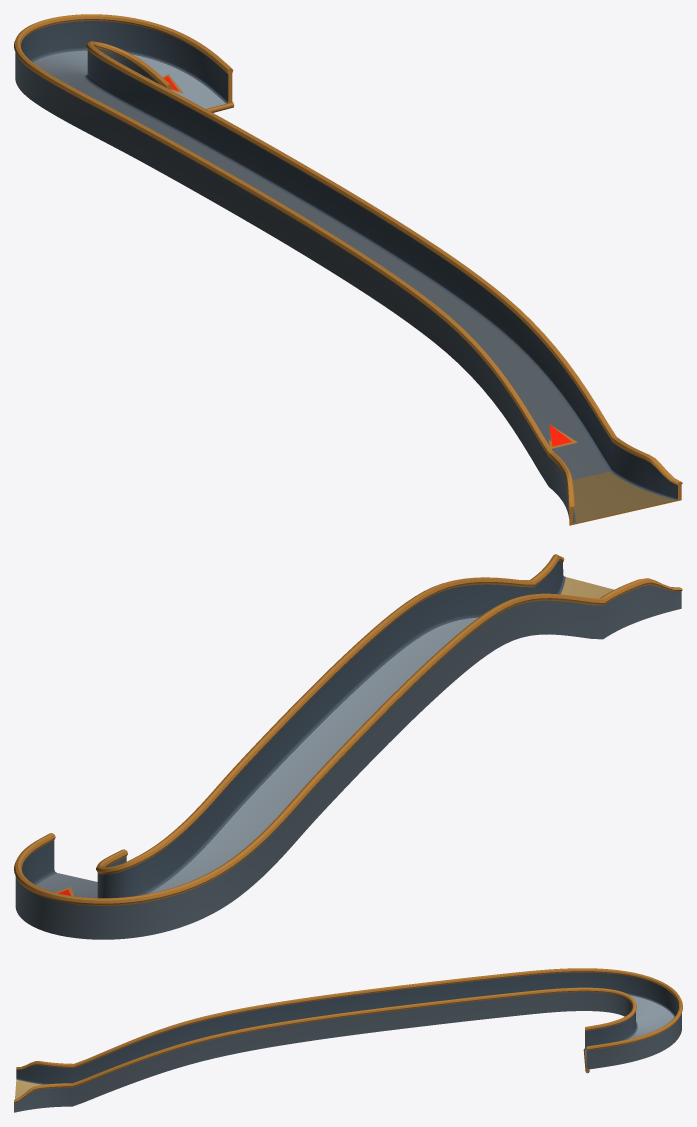
File: ramp-longL.dae
3 views of the same model, one above another, from view 1: azimuth 30°, elevation 25°; view 2: azimuth 150°, elevation 25°; view 3: azimuth 270°, elevation 25° (orthographic). The views are drawn at different scales.
Parts seen in each view (by area): view 1: channel_liner, channel_shell, channel_floor, accent, channel_entry; view 2: channel_shell, channel_liner, accent, channel_floor, channel_entry; view 3: channel_shell, channel_liner, accent, channel_floor, channel_entry.
Part boxes in pixels (left/top/right/bottom): channel_liner: left=21, top=21, right=677, bottom=522; channel_shell: left=15, top=48, right=569, bottom=518; channel_floor: left=33, top=50, right=609, bottom=479; accent: left=14, top=14, right=682, bottom=525; channel_entry: left=572, top=471, right=674, bottom=522; channel_shell: left=15, top=585, right=681, bottom=939; channel_liner: left=22, top=561, right=565, bottom=898; accent: left=14, top=554, right=682, bottom=905; channel_floor: left=36, top=617, right=477, bottom=898; channel_entry: left=561, top=577, right=613, bottom=598; channel_shell: left=14, top=992, right=681, bottom=1112; channel_liner: left=16, top=972, right=678, bottom=1084; accent: left=14, top=968, right=682, bottom=1102; channel_floor: left=585, top=995, right=674, bottom=1066; channel_entry: left=15, top=1079, right=41, bottom=1099.
Bounding box in the file's own units: 0.2828 × 0.2038 × 1.39.
